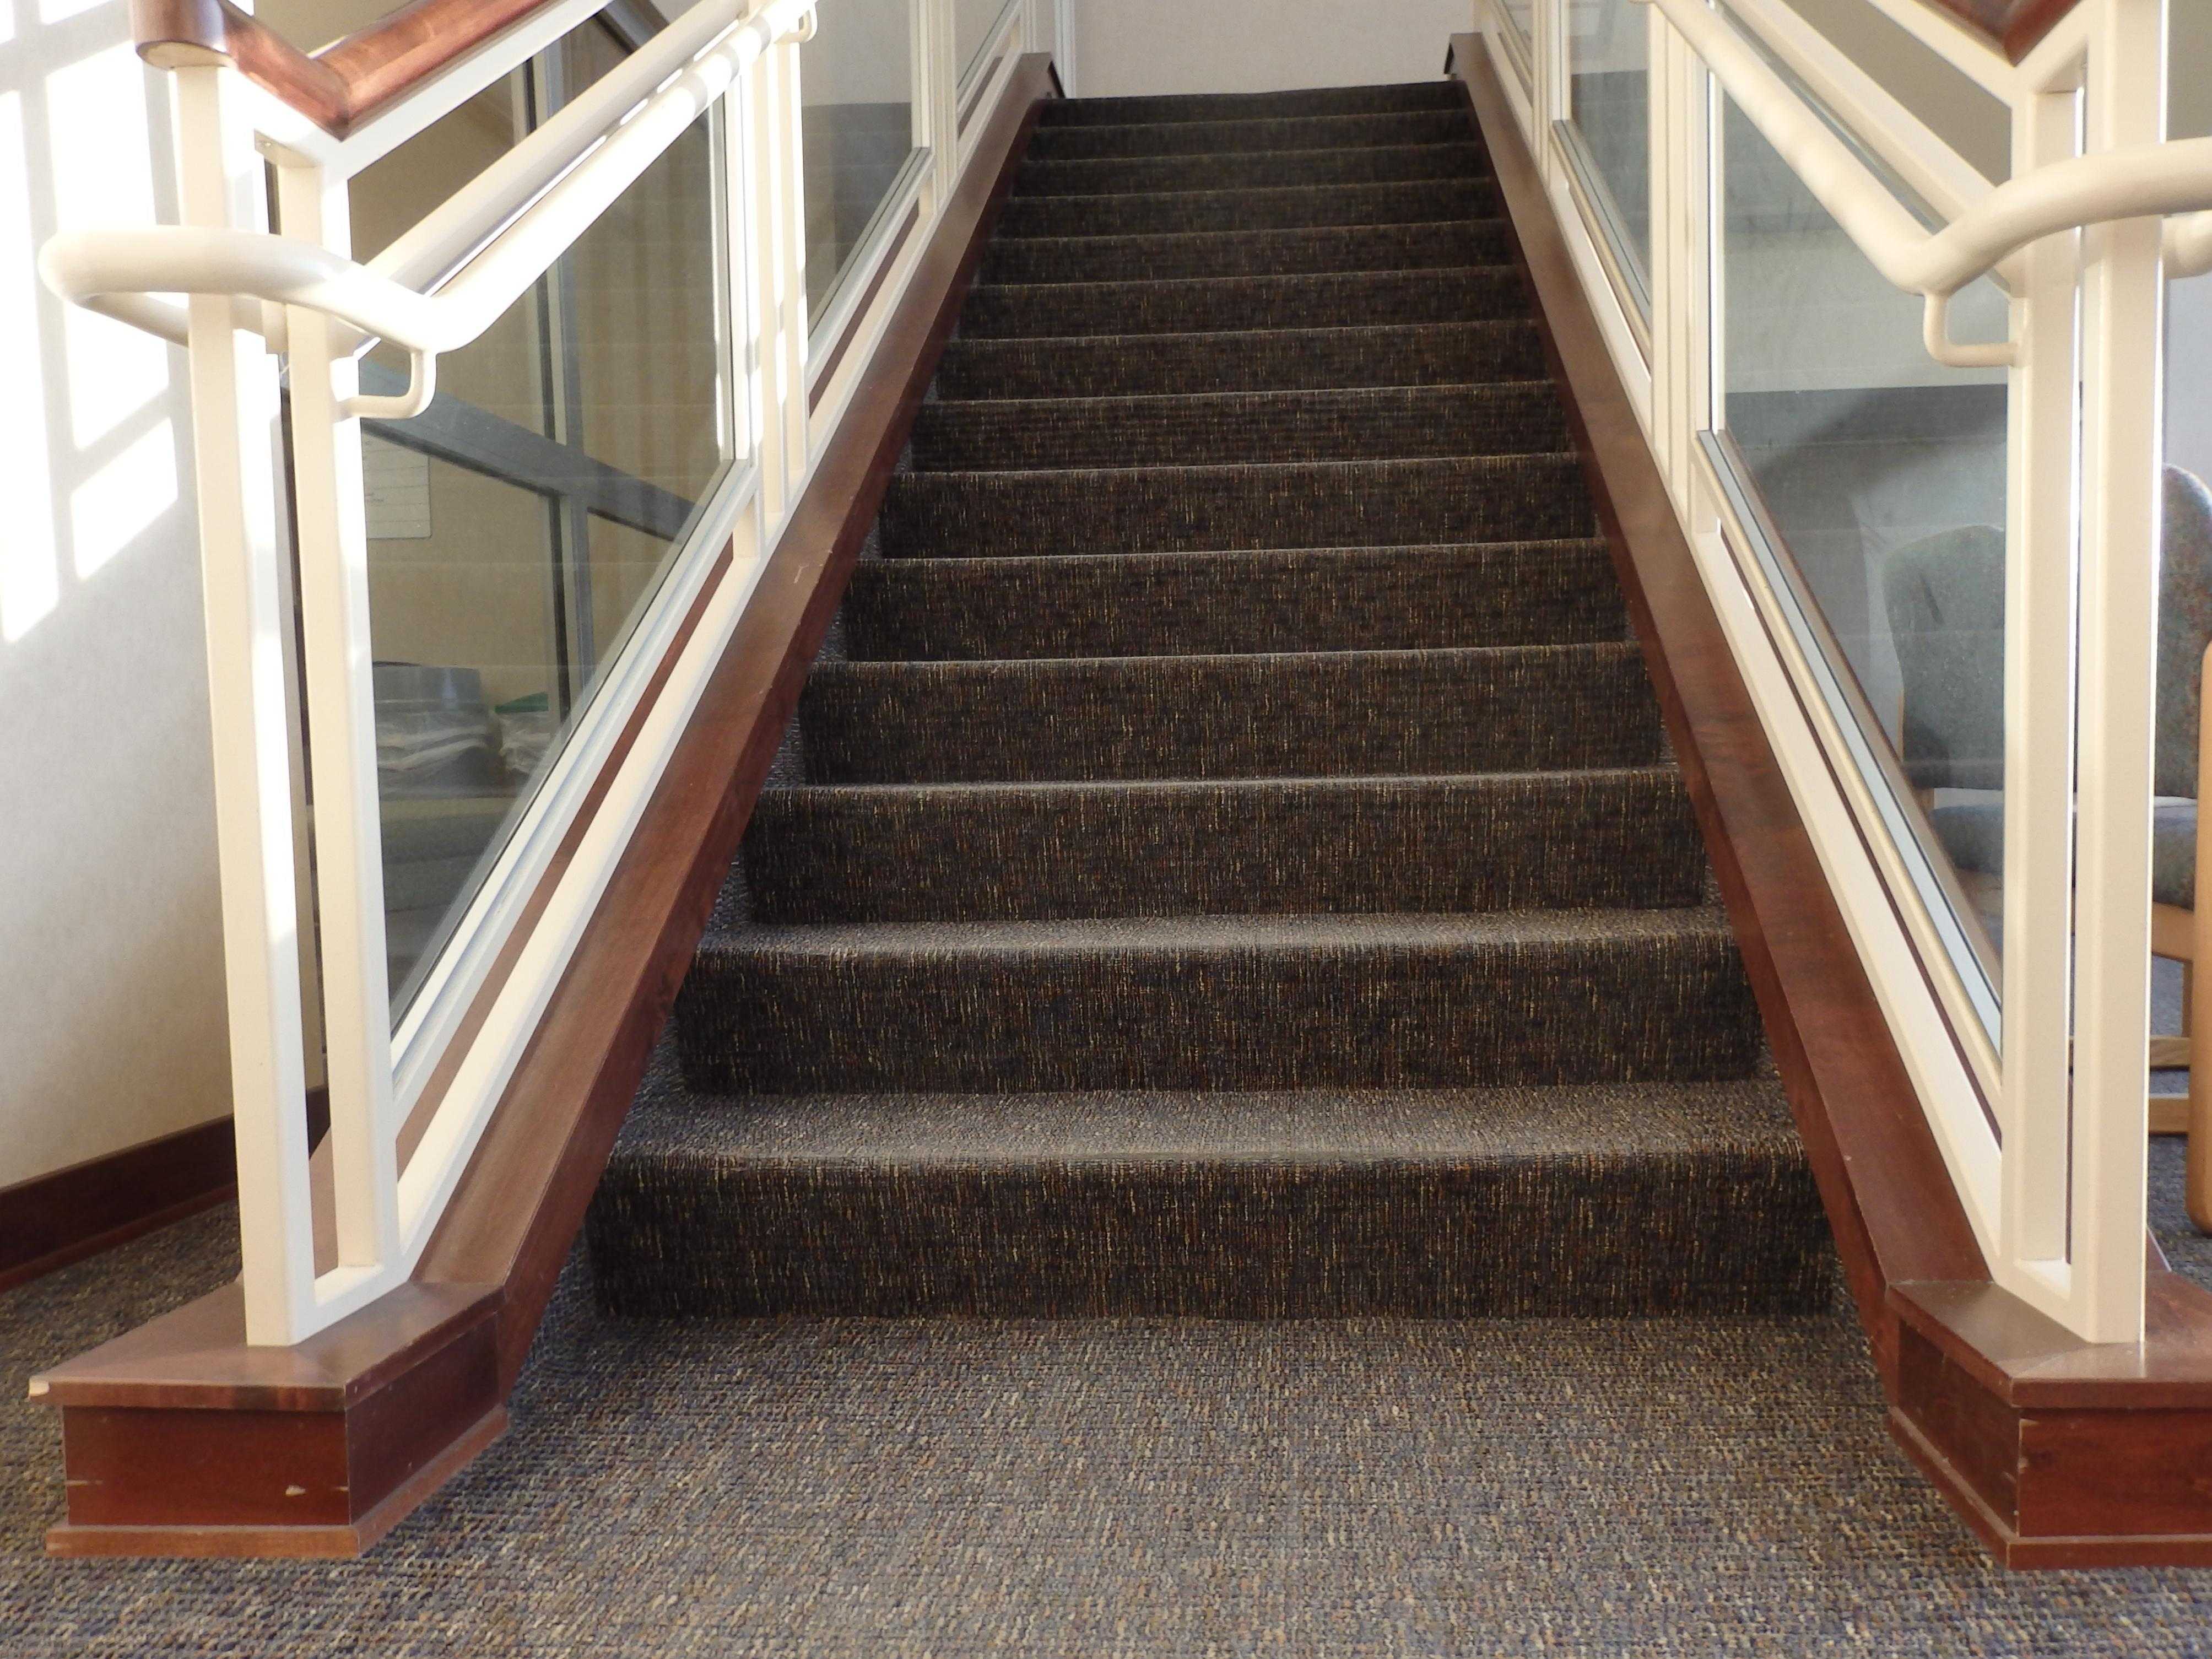stairs_up: (599, 80, 1851, 1262)
